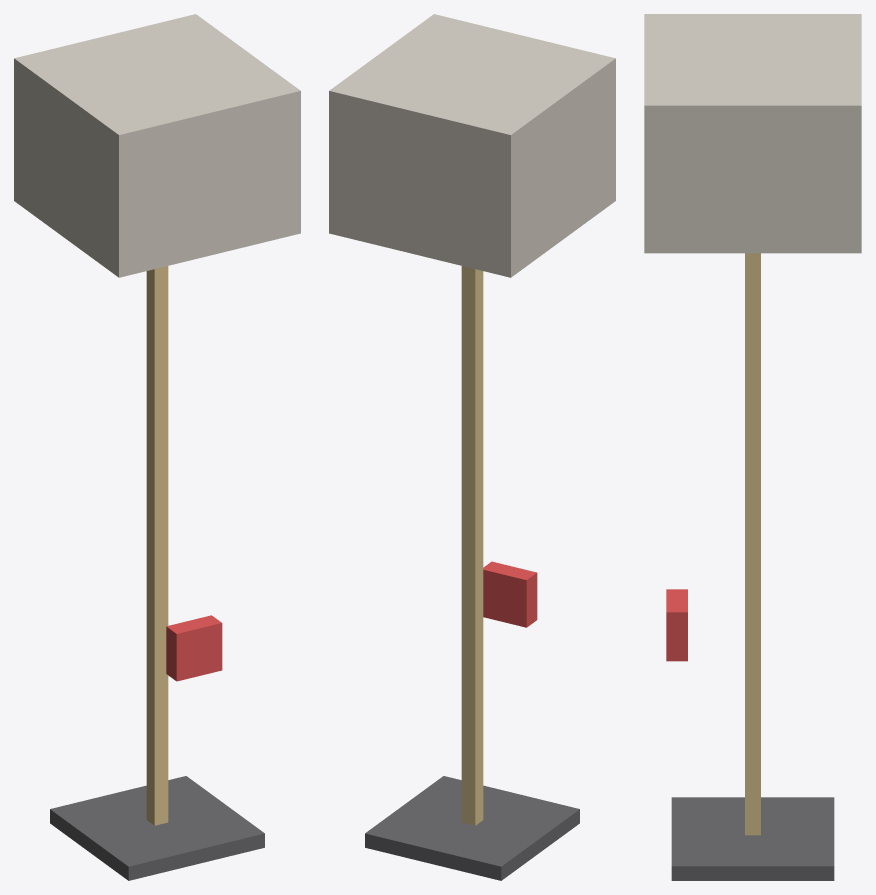
File: sample-lamp.glb
The picture shows the model from 3 angles, left to right: view 1: azimuth 30°, elevation 25°; view 2: azimuth 150°, elevation 25°; view 3: azimuth 270°, elevation 25°; orthographic projection. The views are drawn at different scales.
Bounding box in the file's own units: 0.4 × 1.6 × 0.4.
